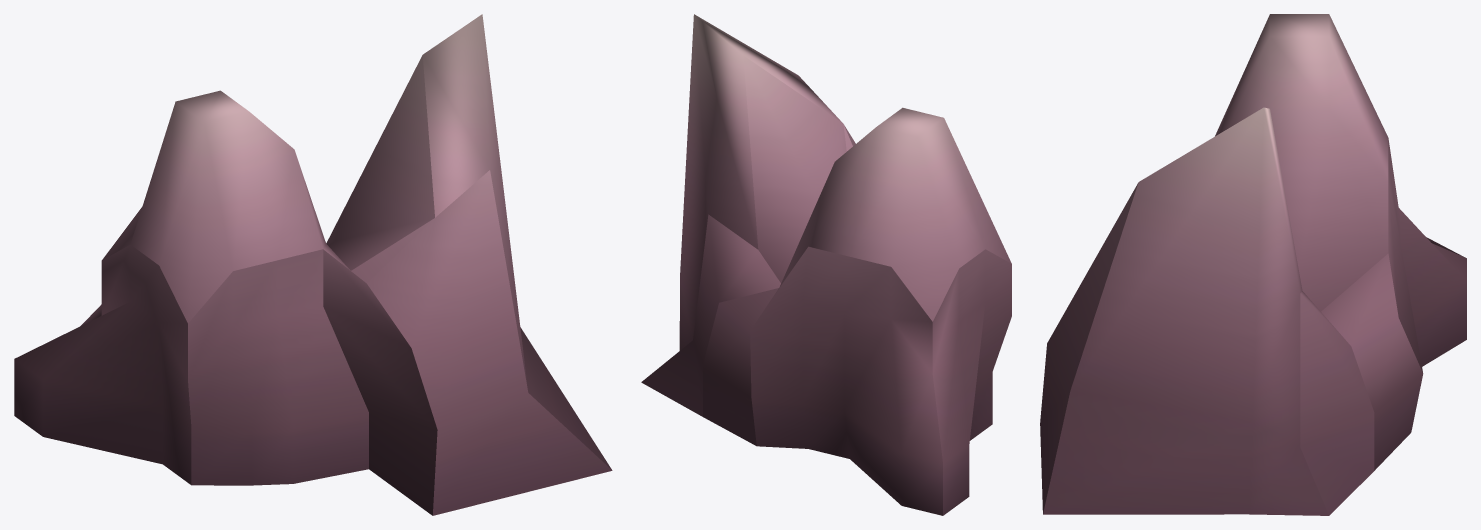
The model's file is rotsformatie_1.fbx.
3 views of the same model, side by side, from view 1: azimuth 30°, elevation 25°; view 2: azimuth 150°, elevation 25°; view 3: azimuth 270°, elevation 25° (orthographic). The views are drawn at different scales.
Parts seen in each view (by area): view 1: rotsformatie; view 2: rotsformatie; view 3: rotsformatie.
Part boxes in pixels (<box>): rotsformatie: <box>14,14,612,515</box>; rotsformatie: <box>641,14,1011,515</box>; rotsformatie: <box>1040,14,1466,515</box>.
Bounding box in the file's own units: 101 × 93.84 × 91.76.
1 material, 1 textured.
